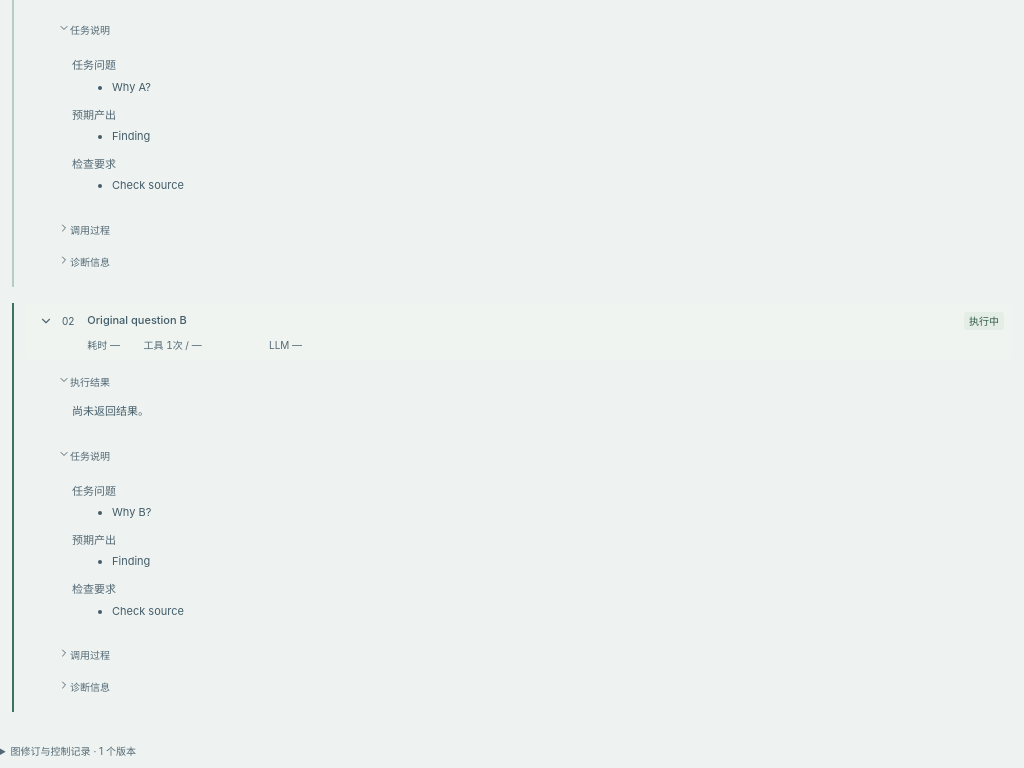
Scenario: actual graph process reader › distinguishes tool execution from the observed record interval in tool details
This screenshot has width=1024, height=768.
(page scrolled)
Step 1. Click the heading "调用过程" below "Why B?" → (84, 654), box [58,647,110,661]
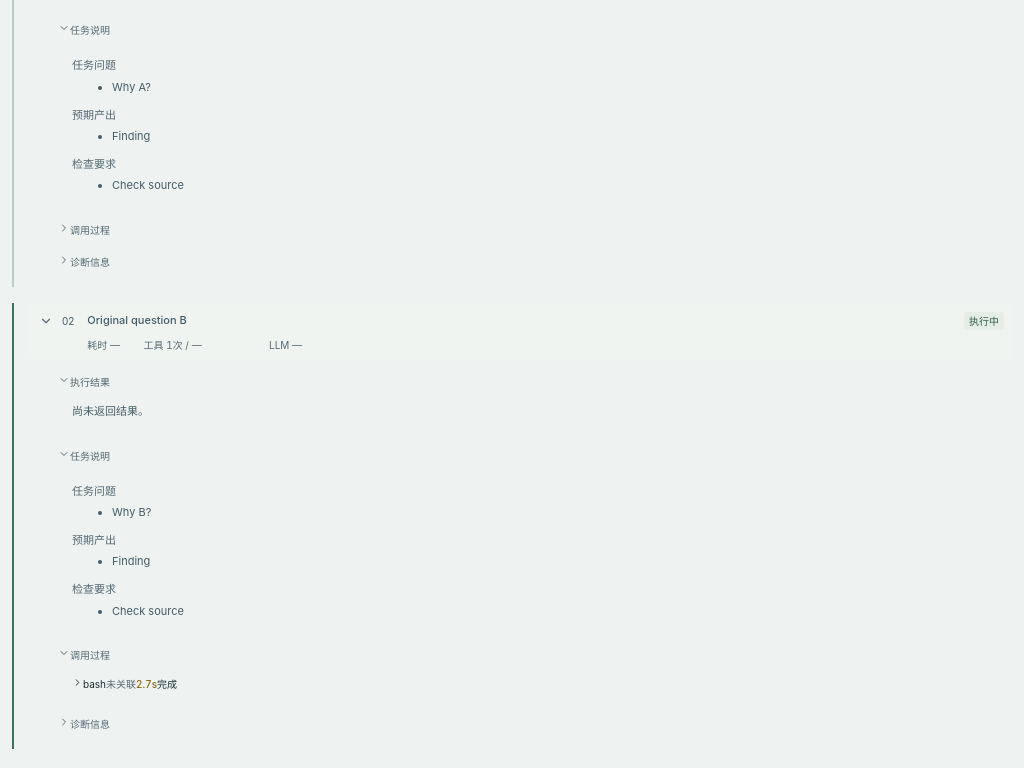
Step 2. Click the text "bash" → (94, 684), box [83,678,106,690]
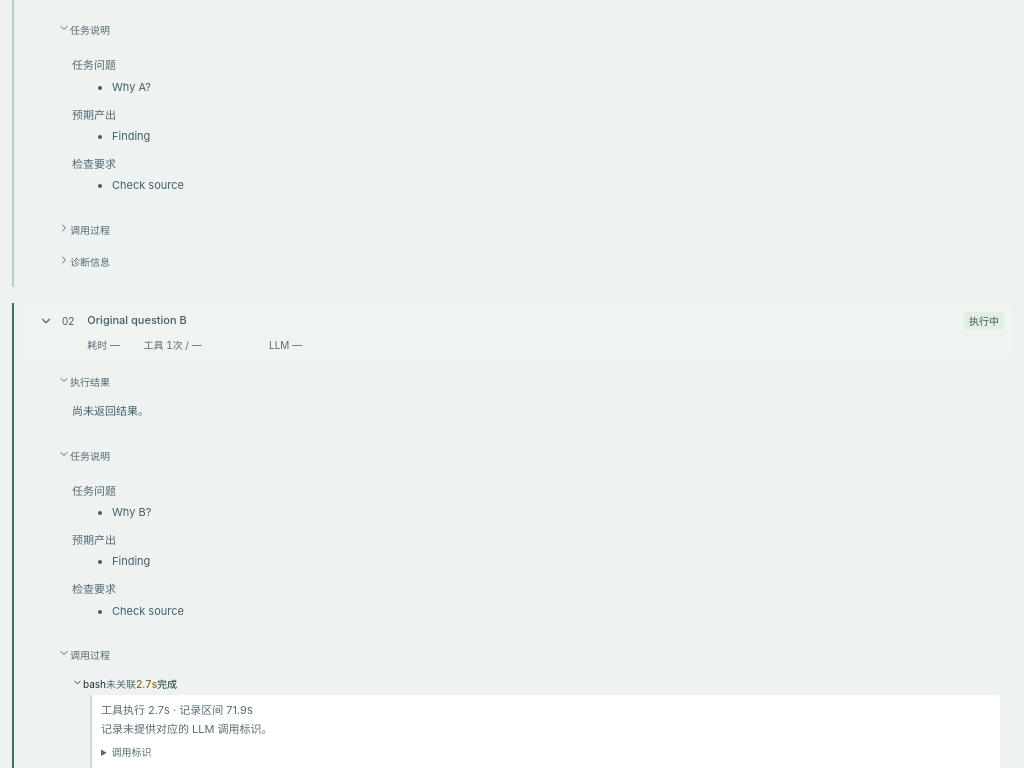
Expected: the text "工具执行 2.7s · 记录区间 71.9s" is shown, [101,703,253,717]
